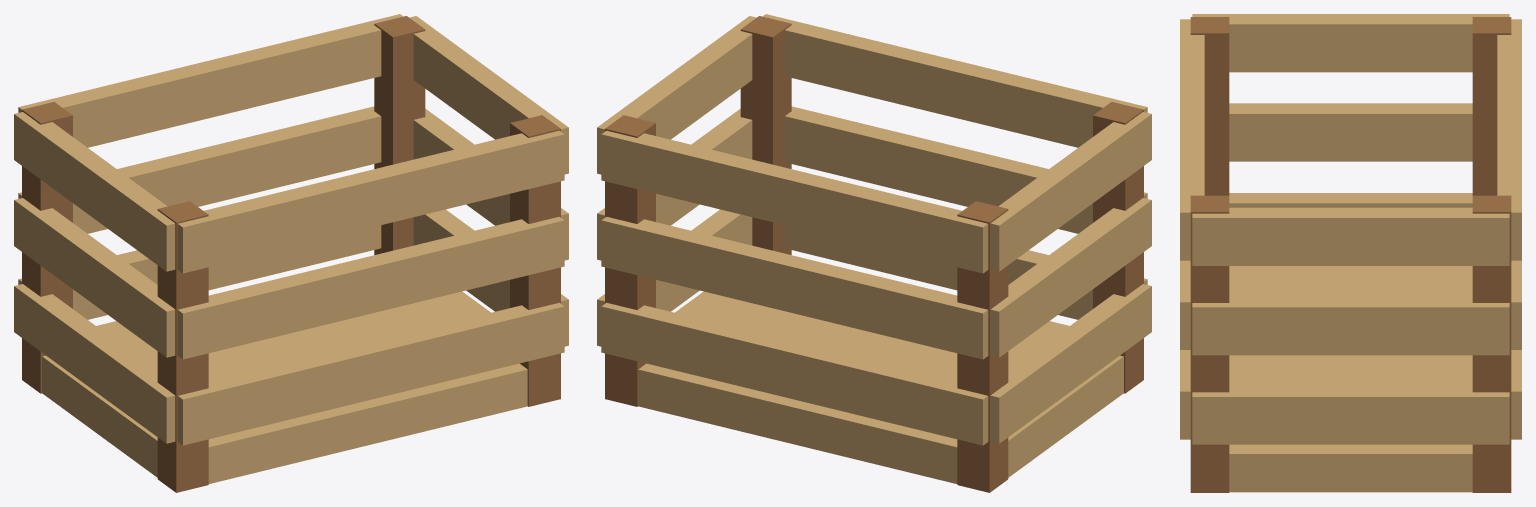
Rendered from TR3_Crate_Wooden.glb.
3 views of the same model, side by side, from view 1: azimuth 30°, elevation 25°; view 2: azimuth 150°, elevation 25°; view 3: azimuth 270°, elevation 25° (orthographic). The views are drawn at different scales.
Parts seen in each view (by area): view 1: TR3_Crate_Wooden; view 2: TR3_Crate_Wooden; view 3: TR3_Crate_Wooden.
Boxes of the visible parts, <box> form: TR3_Crate_Wooden: <box>14,14,568,492</box>; TR3_Crate_Wooden: <box>597,14,1151,492</box>; TR3_Crate_Wooden: <box>1180,14,1521,492</box>.
Bounding box in the file's own units: 0.685 × 0.44 × 0.485.
